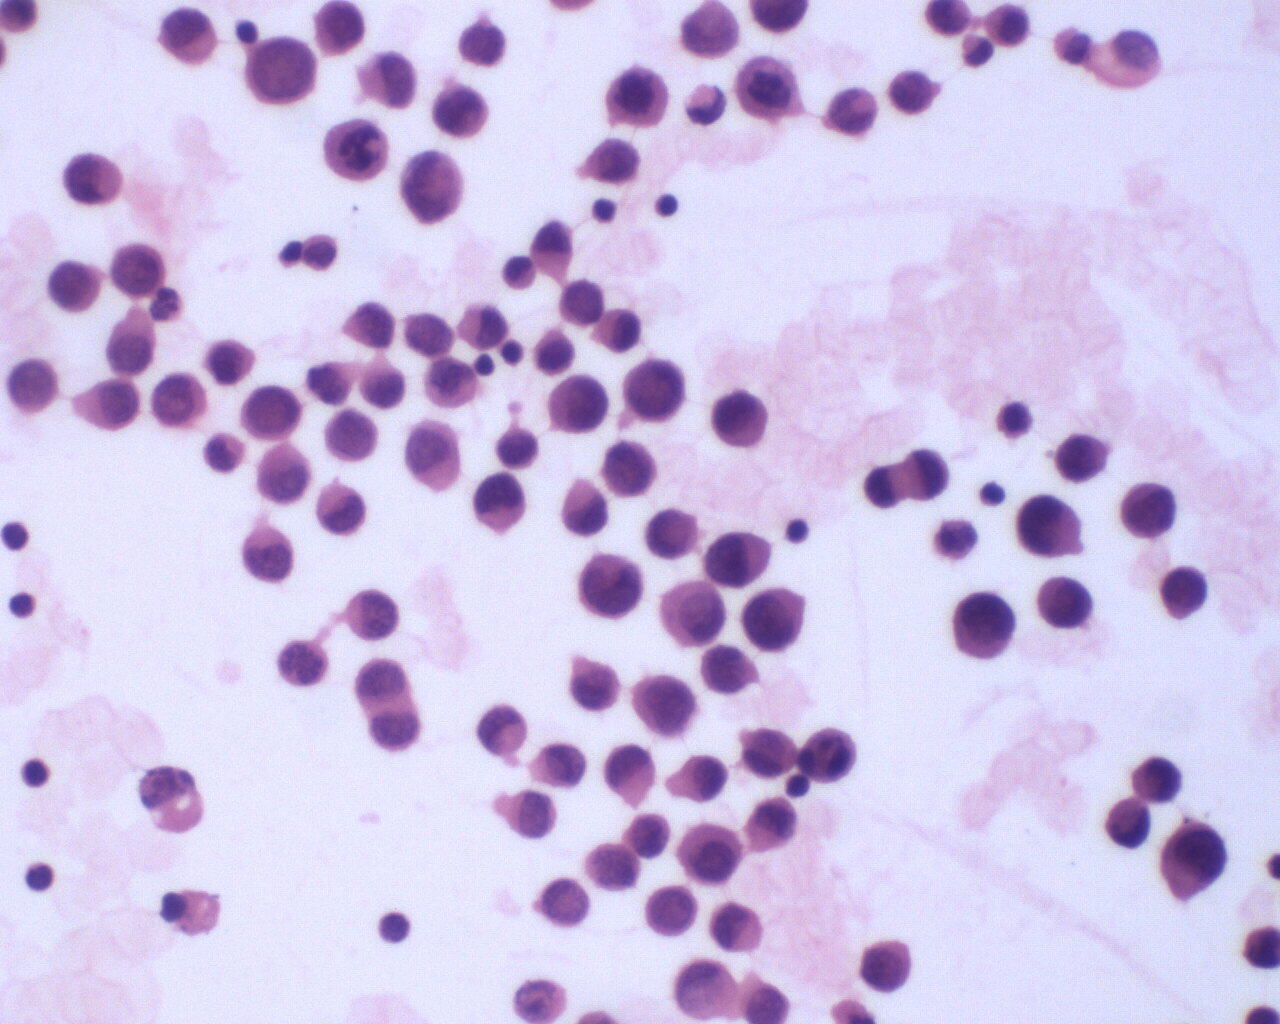ab: (238, 32, 320, 108), (1158, 821, 1231, 904), (397, 148, 465, 232), (734, 50, 805, 125), (574, 551, 647, 622), (628, 672, 703, 741), (952, 586, 1019, 662), (322, 116, 392, 186), (741, 584, 810, 654), (603, 60, 671, 130), (1015, 492, 1083, 558), (709, 388, 778, 451), (623, 357, 686, 425), (546, 373, 612, 437), (148, 367, 210, 435), (703, 530, 774, 588), (1115, 476, 1180, 538), (471, 470, 529, 537), (107, 242, 168, 303), (601, 438, 659, 502), (241, 382, 302, 443), (238, 522, 295, 586), (1037, 567, 1092, 632), (5, 353, 60, 419), (643, 505, 703, 562), (428, 83, 489, 140), (352, 653, 414, 709), (418, 356, 481, 412), (48, 257, 103, 320), (855, 938, 916, 994), (644, 885, 703, 941), (363, 700, 424, 754), (565, 654, 622, 713), (323, 408, 381, 464), (343, 588, 402, 644), (313, 1, 369, 59), (583, 838, 643, 891), (701, 642, 758, 697), (883, 64, 939, 119), (507, 787, 561, 844), (533, 740, 588, 794), (1159, 561, 1207, 623), (1130, 753, 1185, 807), (739, 975, 797, 1024), (202, 333, 255, 387), (588, 135, 643, 187), (1053, 430, 1109, 482), (557, 277, 607, 330), (494, 424, 542, 471), (623, 813, 669, 860)
lymph: (650, 187, 683, 222), (25, 859, 57, 892), (19, 758, 51, 790), (1, 516, 31, 551), (5, 589, 37, 622), (785, 517, 811, 544)
meso: (658, 576, 725, 650)
